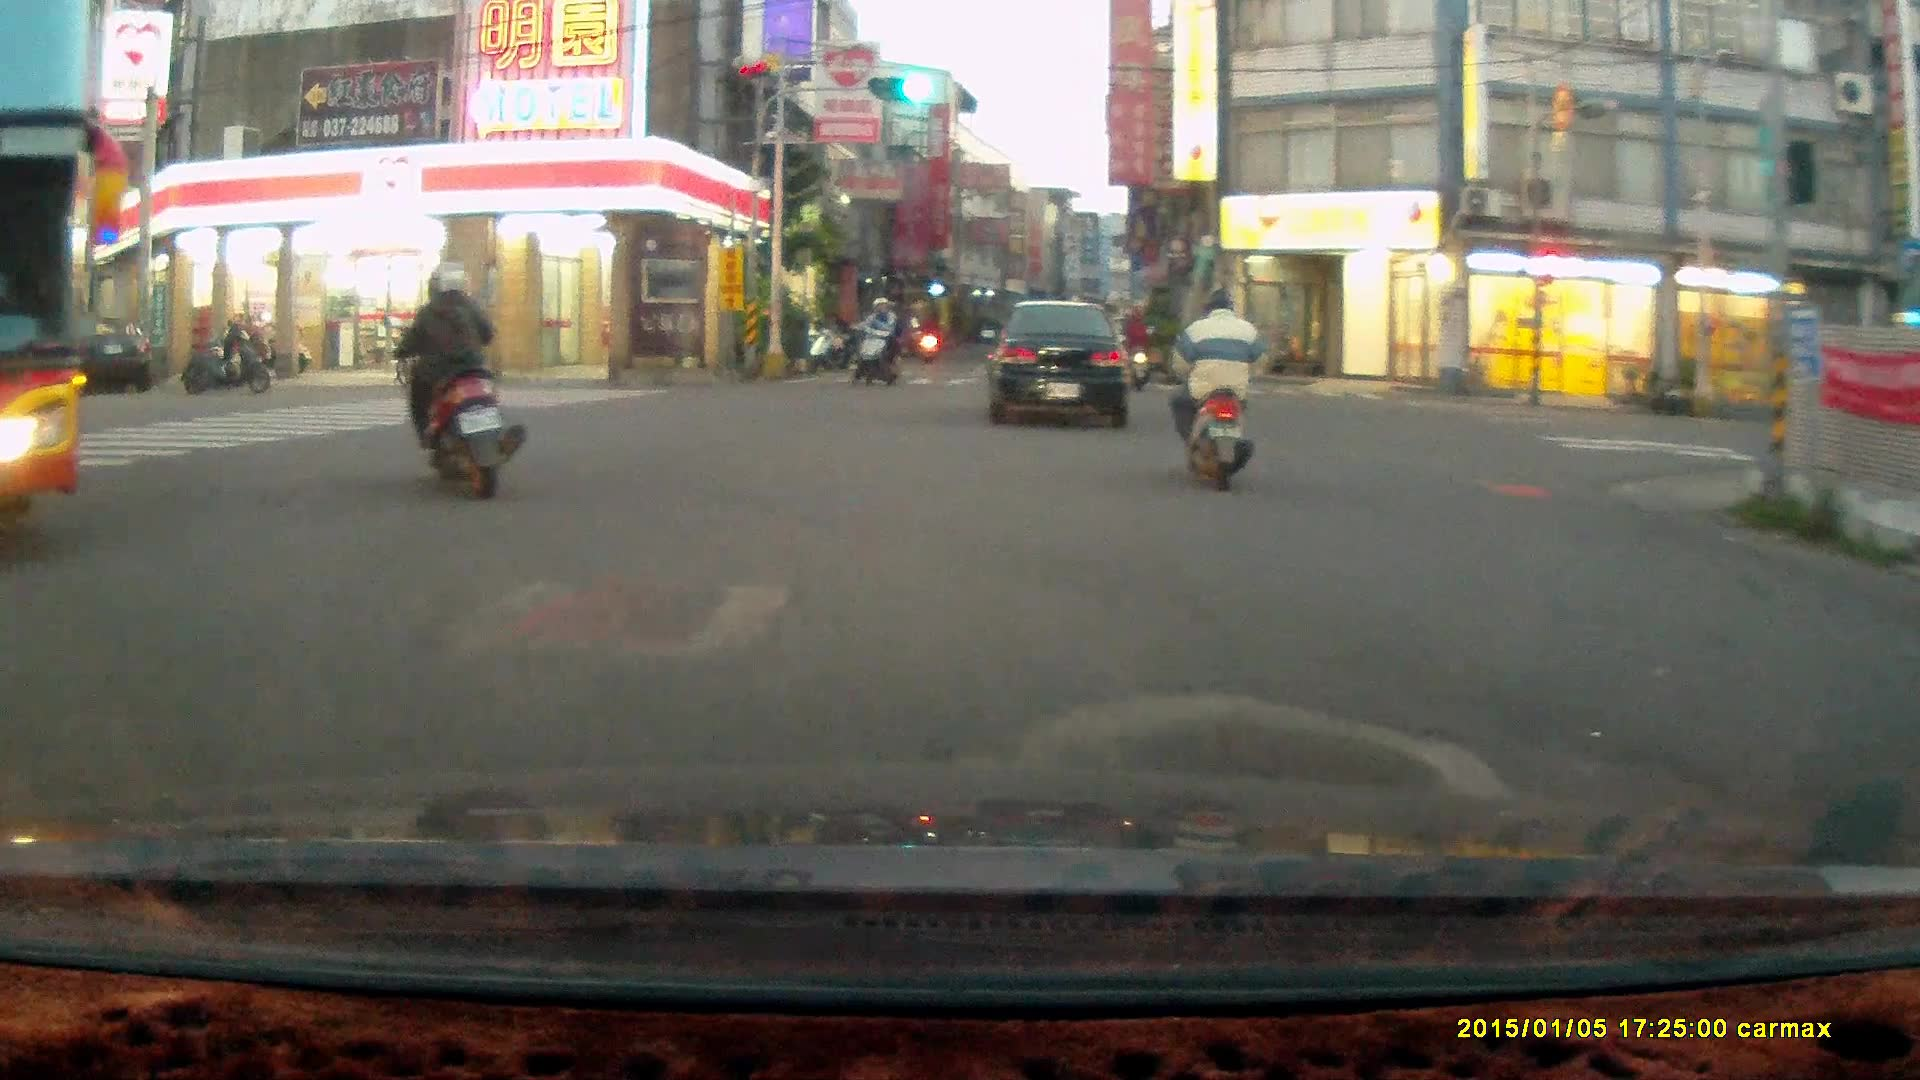rider: (380, 259, 524, 497), (1169, 284, 1259, 490), (848, 291, 906, 388), (1117, 298, 1155, 384)
vehicle: (1, 38, 97, 546), (988, 295, 1134, 428)
